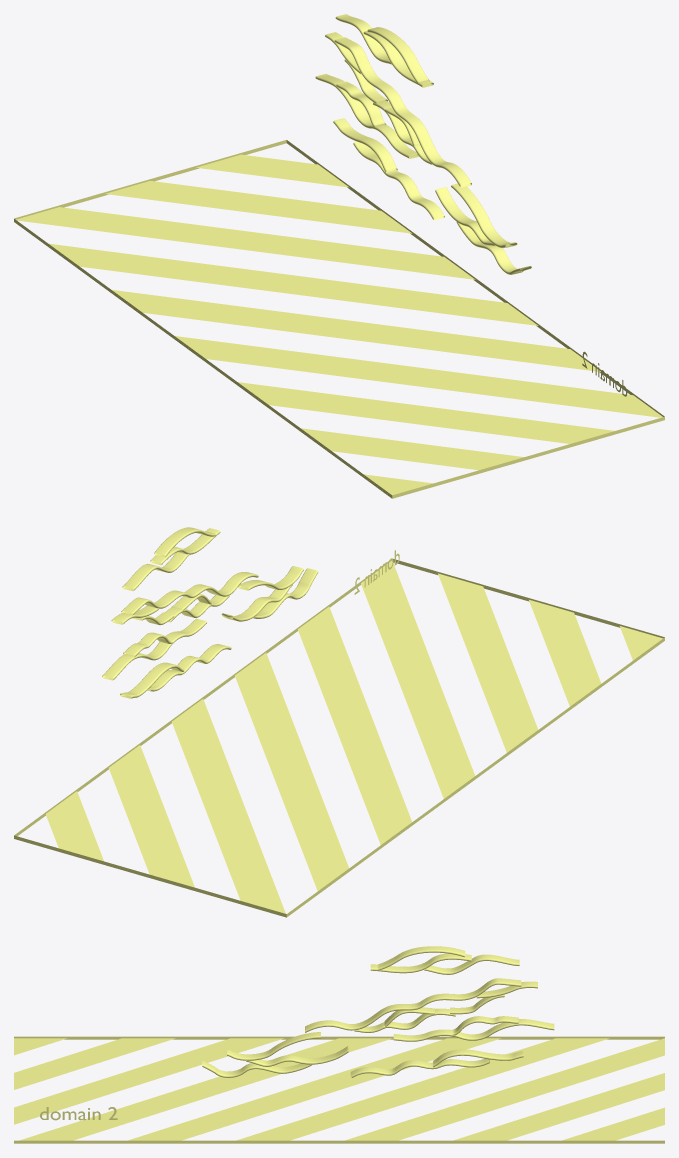
File: Domain 02.glb
The picture shows the model from 3 angles, top to bottom: view 1: azimuth 30°, elevation 25°; view 2: azimuth 150°, elevation 25°; view 3: azimuth 270°, elevation 25°; orthographic projection. The views are drawn at different scales.
Parts seen in each view (by area): view 1: Plane.001, Domain 2, Plane; view 2: Plane.001, Domain 2, Plane; view 3: Plane.001, Domain 2, Plane, domain 2.
Boxes of the visible parts, x1,y1,x2,y2 form: Plane.001: (16,154,662,495); Domain 2: (315,14,531,274); Plane: (14,140,664,498); Plane.001: (45,561,662,913); Domain 2: (102,527,318,698); Plane: (14,559,664,917); Plane.001: (14,1038,664,1140); Domain 2: (202,946,554,1077); Plane: (14,1036,664,1143); domain 2: (40,1107,117,1120).
Bounding box in the file's own units: 0.0608 × 0.0479 × 0.1459.
